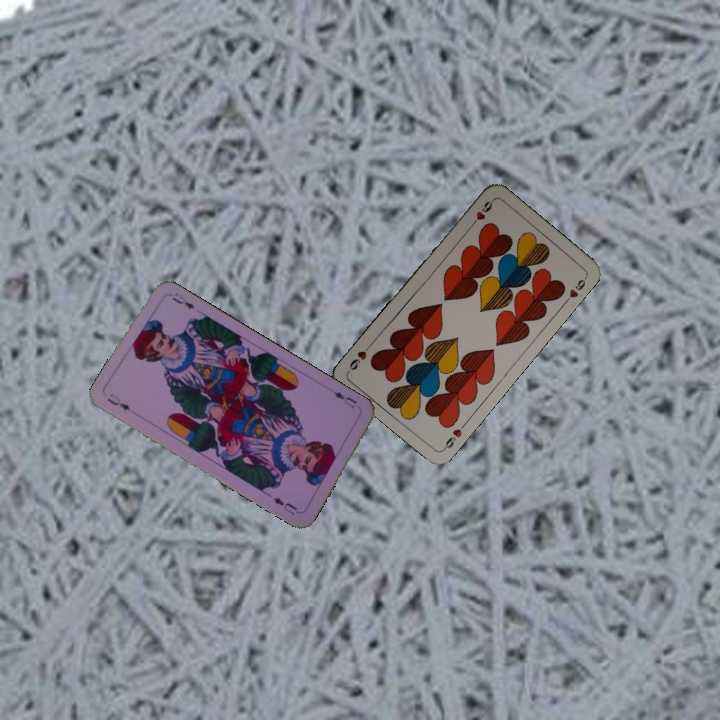EU: (103, 389, 133, 413), (330, 388, 360, 411)
H9: (466, 196, 496, 230), (439, 419, 469, 453)
